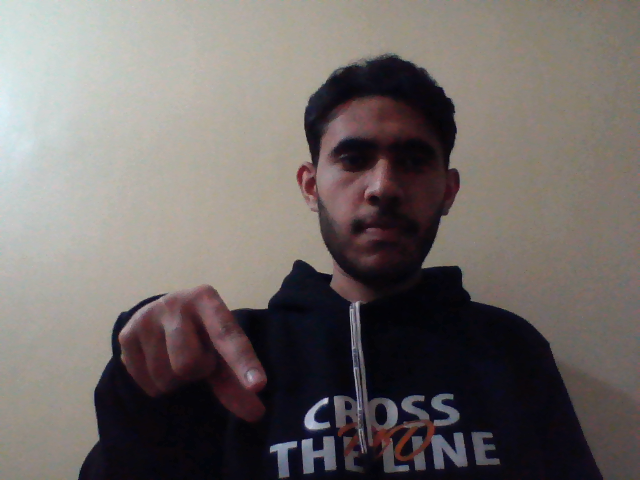Q: (107, 276, 280, 428)
